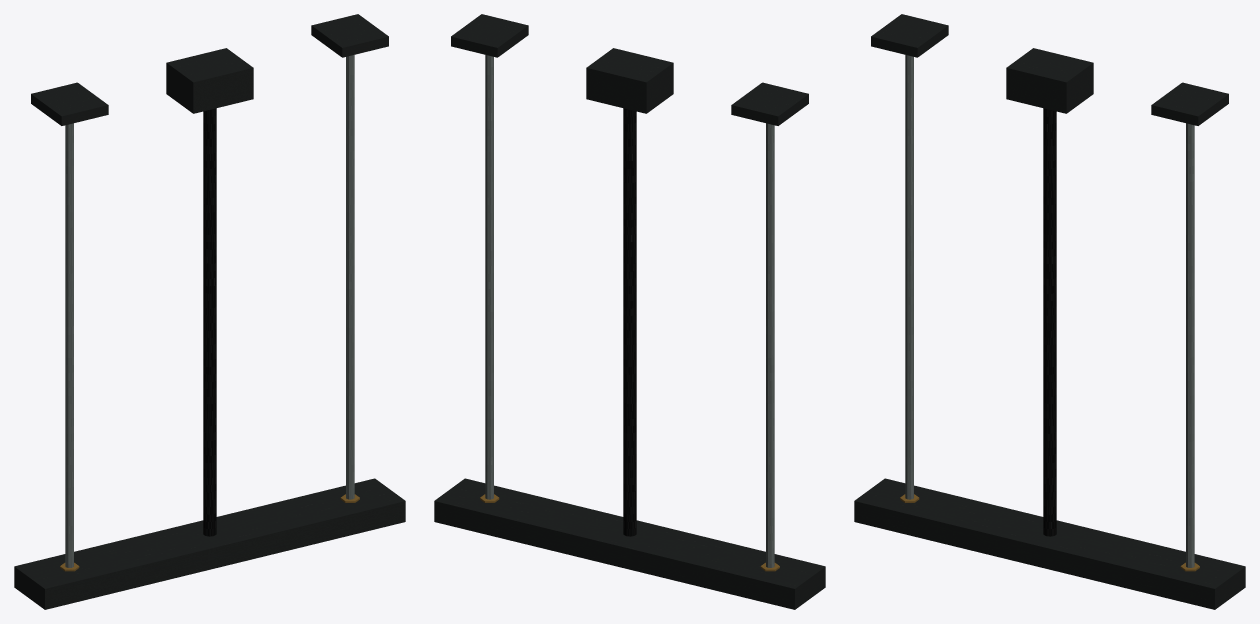
File: level_mill_suspension.glb
The picture shows the model from 3 angles, left to right: view 1: azimuth 30°, elevation 25°; view 2: azimuth 150°, elevation 25°; view 3: azimuth 330°, elevation 25°; orthographic projection.
Parts seen in each view (by area): view 1: level_mill_suspension; view 2: level_mill_suspension; view 3: level_mill_suspension.
Part boxes in pixels (bbox=[...]): level_mill_suspension: bbox=[14, 14, 405, 609]; level_mill_suspension: bbox=[434, 14, 825, 609]; level_mill_suspension: bbox=[854, 14, 1245, 609].
Size of the model in its own units: 1.08 by 1.4 by 0.16.
4 materials, 4 textured.
